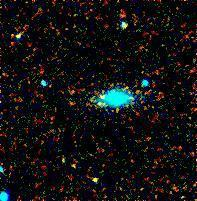star: (67, 149, 97, 179)
